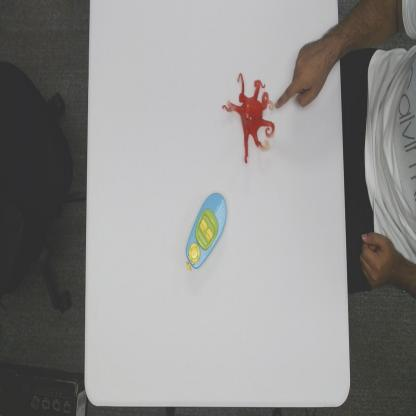Boat: (185, 192, 228, 274)
Hand: (274, 30, 330, 110)
Octopus: (221, 71, 276, 166)
